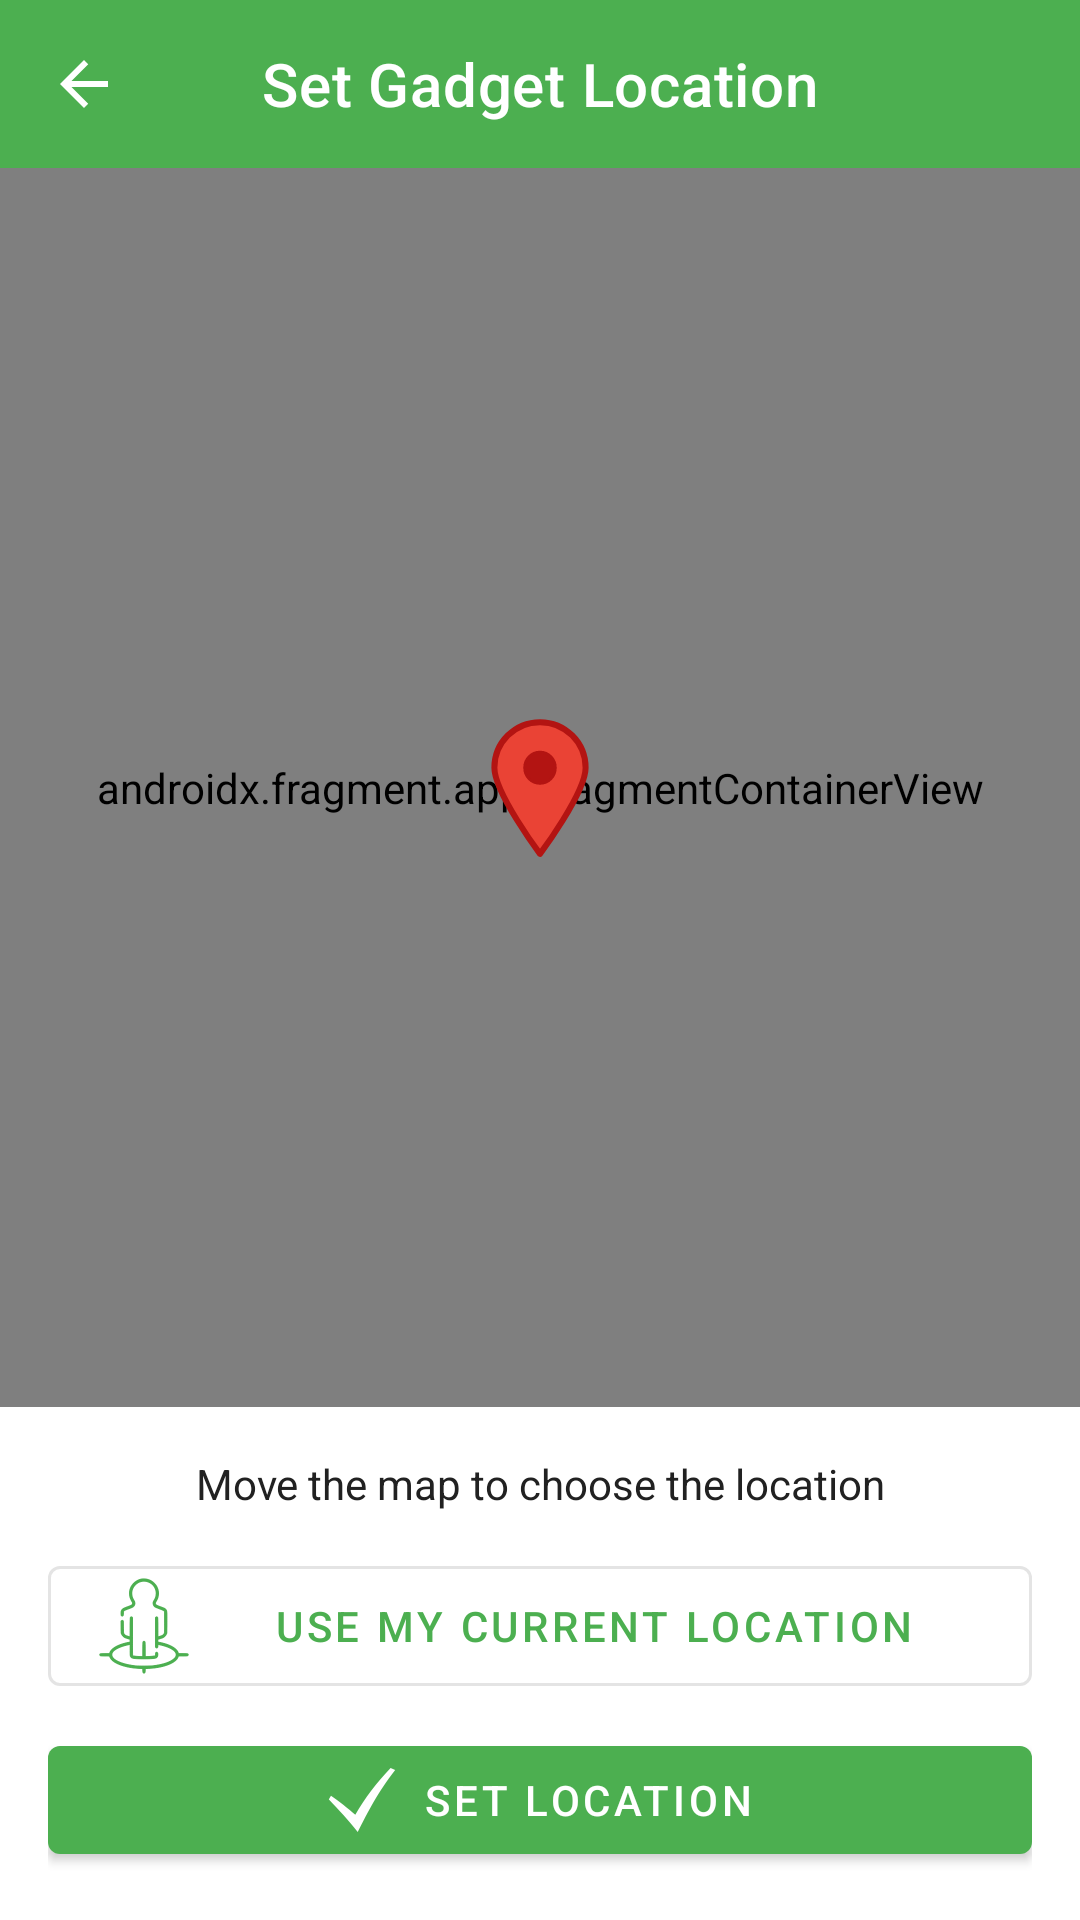

Point at icon controls on the screen. Image size 1080w x 1920h, points as [x,y].
Selected Location: [545,788]
